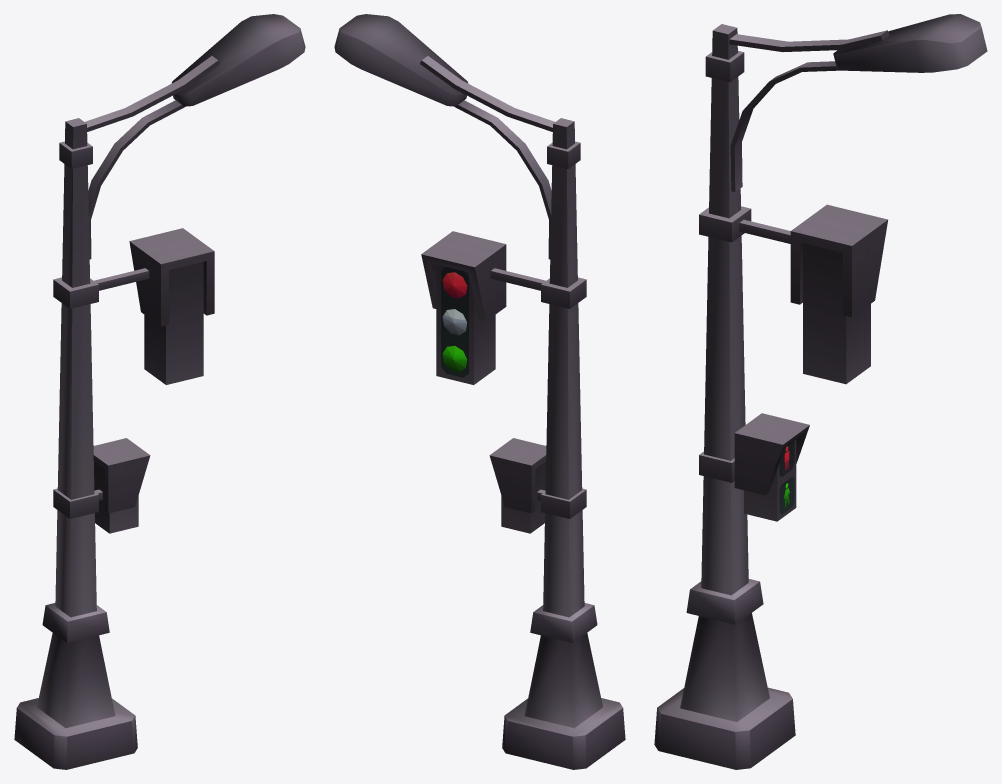
The model's file is Streetlight_3A.004.fbx.
3 renders of one model, left to right at view 1: azimuth 30°, elevation 25°; view 2: azimuth 150°, elevation 25°; view 3: azimuth 330°, elevation 25°, orthographic. The views are drawn at different scales.
Parts seen in each view (by area): view 1: Streetlight_3A.004; view 2: Streetlight_3A.004; view 3: Streetlight_3A.004.
Boxes of the visible parts, bbox=[...] form: Streetlight_3A.004: bbox=[14, 14, 305, 769]; Streetlight_3A.004: bbox=[334, 14, 625, 769]; Streetlight_3A.004: bbox=[654, 14, 987, 769].
Bounding box in the file's own units: 104 × 253 × 33.24.
